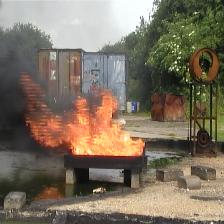fire: (44, 97, 145, 153)
smoke: (0, 47, 24, 148)
